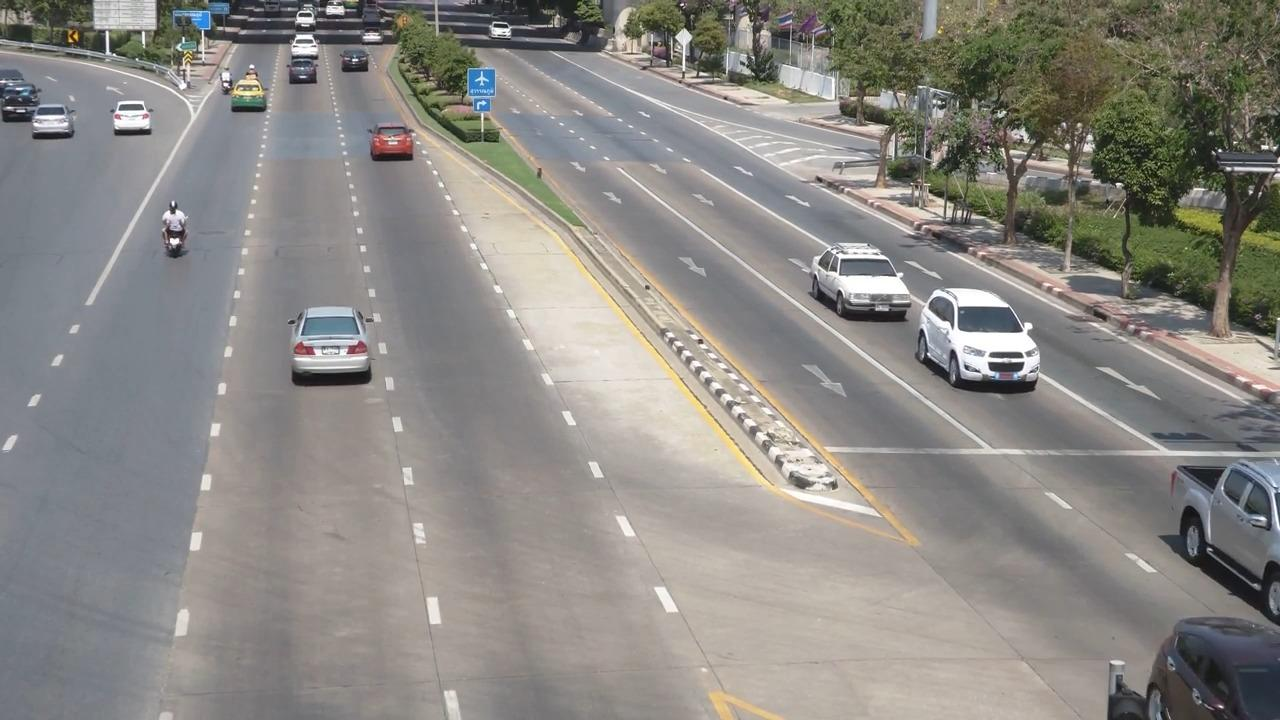CAR: (1163, 444, 1280, 613), (912, 280, 1050, 396), (275, 290, 389, 399), (805, 229, 916, 327), (98, 96, 166, 150), (361, 119, 424, 172), (19, 106, 83, 158), (282, 51, 332, 96), (2, 80, 51, 124), (225, 78, 274, 115), (337, 44, 380, 84), (283, 34, 327, 67), (357, 17, 395, 55), (485, 12, 521, 47), (290, 11, 321, 39)
MOTOR: (145, 192, 215, 273), (209, 65, 239, 100), (236, 57, 267, 89)
